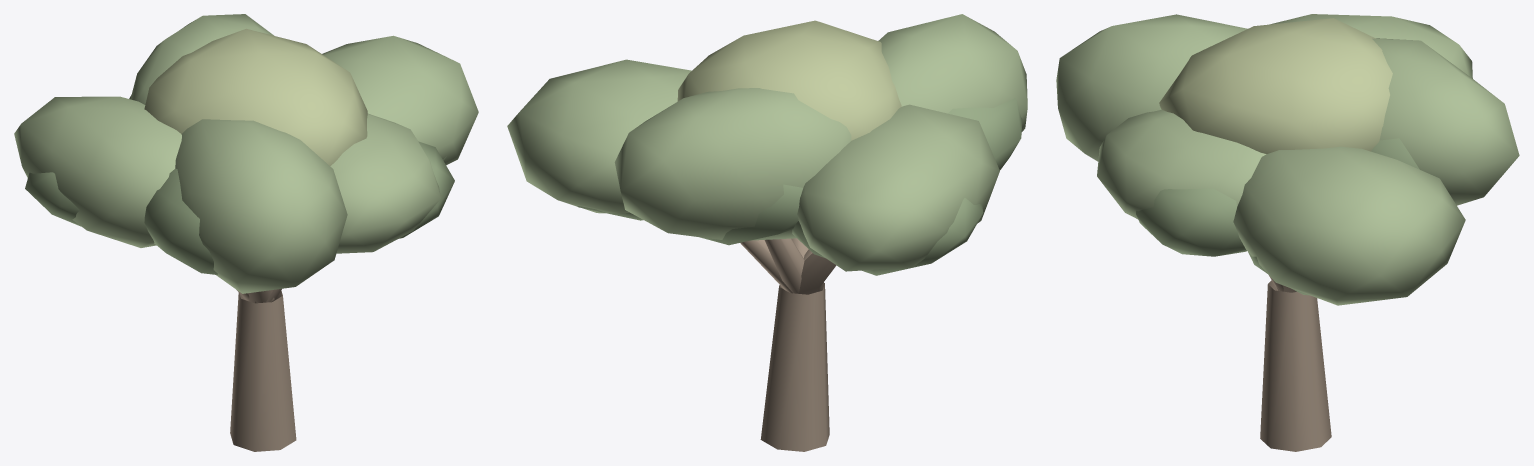
Rendered from tree_ombu_1.glb.
3 views of the same model, side by side, from view 1: azimuth 30°, elevation 25°; view 2: azimuth 150°, elevation 25°; view 3: azimuth 270°, elevation 25° (orthographic). The views are drawn at different scales.
Parts seen in each view (by area): view 1: tree_ombu_1.glb; view 2: tree_ombu_1.glb; view 3: tree_ombu_1.glb.
Boxes of the visible parts, x1=… form: tree_ombu_1.glb: x1=14, y1=14, x2=478, y2=451; tree_ombu_1.glb: x1=507, y1=14, x2=1027, y2=451; tree_ombu_1.glb: x1=1056, y1=14, x2=1519, y2=451.
Size of the model in its own units: 7.05 by 5.98 by 6.21.
